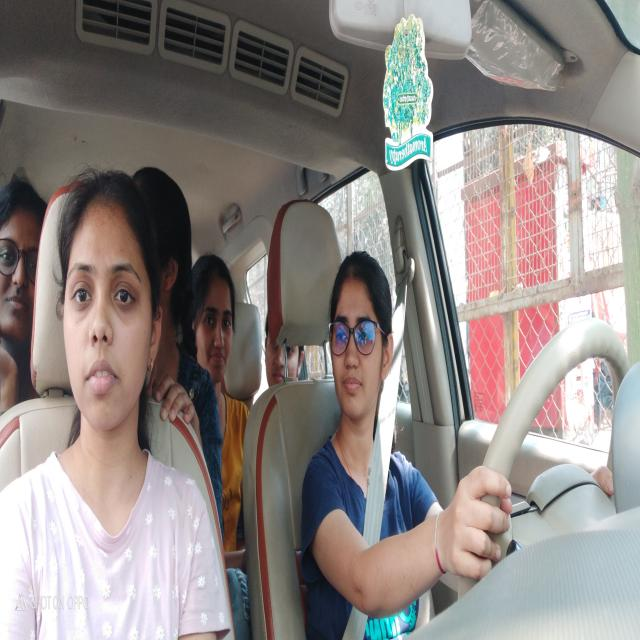person: (62, 208, 153, 426), (332, 262, 392, 420), (2, 208, 38, 344), (198, 271, 238, 381), (161, 189, 188, 330), (261, 316, 307, 379)
